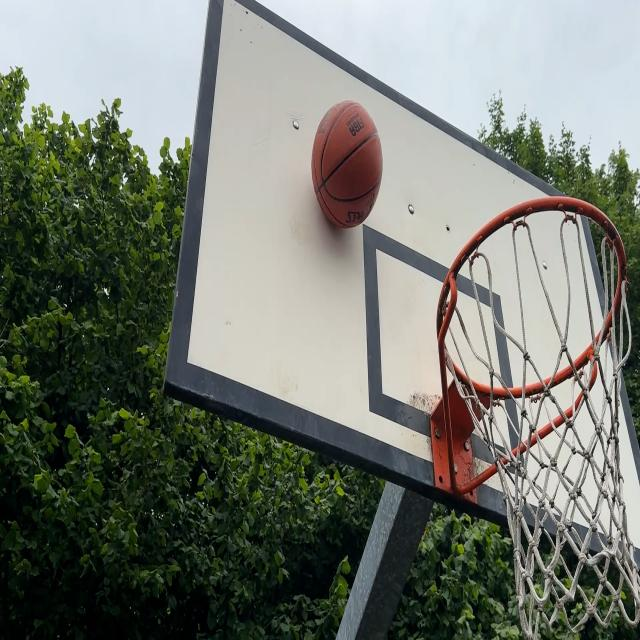rebound_hit: (311, 102, 383, 236)
